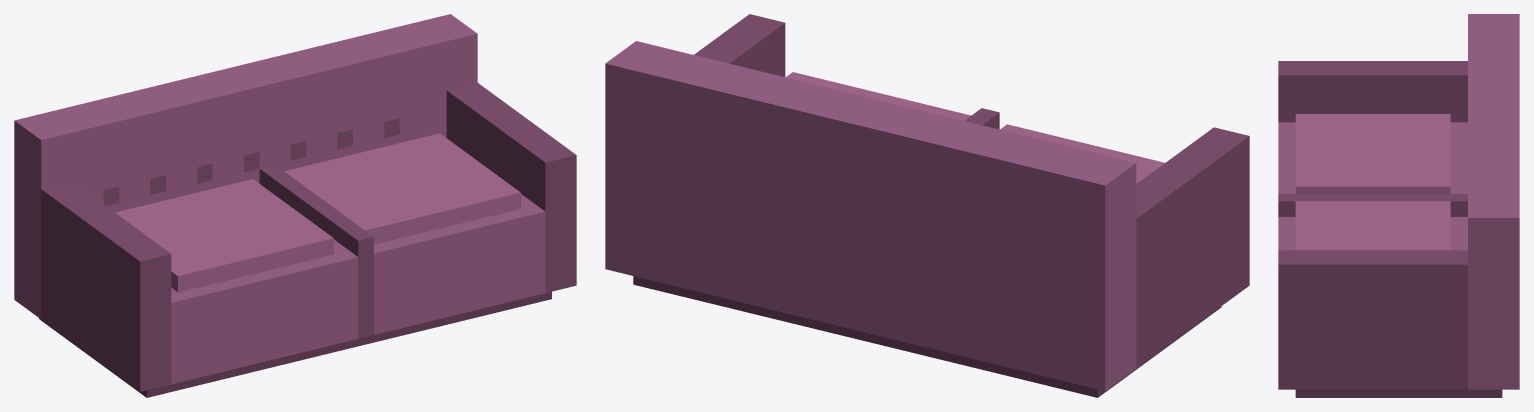
Rendered from sofa_terciopelo_doble_01.glb.
3 views of the same model, side by side, from view 1: azimuth 30°, elevation 25°; view 2: azimuth 150°, elevation 25°; view 3: azimuth 270°, elevation 25° (orthographic). The views are drawn at different scales.
Parts seen in each view (by area): view 1: sofa_terciopelo_doble; view 2: sofa_terciopelo_doble; view 3: sofa_terciopelo_doble.
Part boxes in pixels (x1,y1,x2,y2): sofa_terciopelo_doble: (14, 14, 576, 397); sofa_terciopelo_doble: (605, 14, 1249, 397); sofa_terciopelo_doble: (1278, 14, 1519, 397).
Size of the model in its own units: 2 by 0.8571 by 1.
